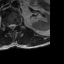CCS_normal: (11, 21, 13, 32)
LFS_stenosis: (16, 22, 18, 29)
LLS_normal: (13, 21, 16, 30)
RFS_normal: (6, 22, 8, 29)
RLS_normal: (8, 22, 11, 30)
